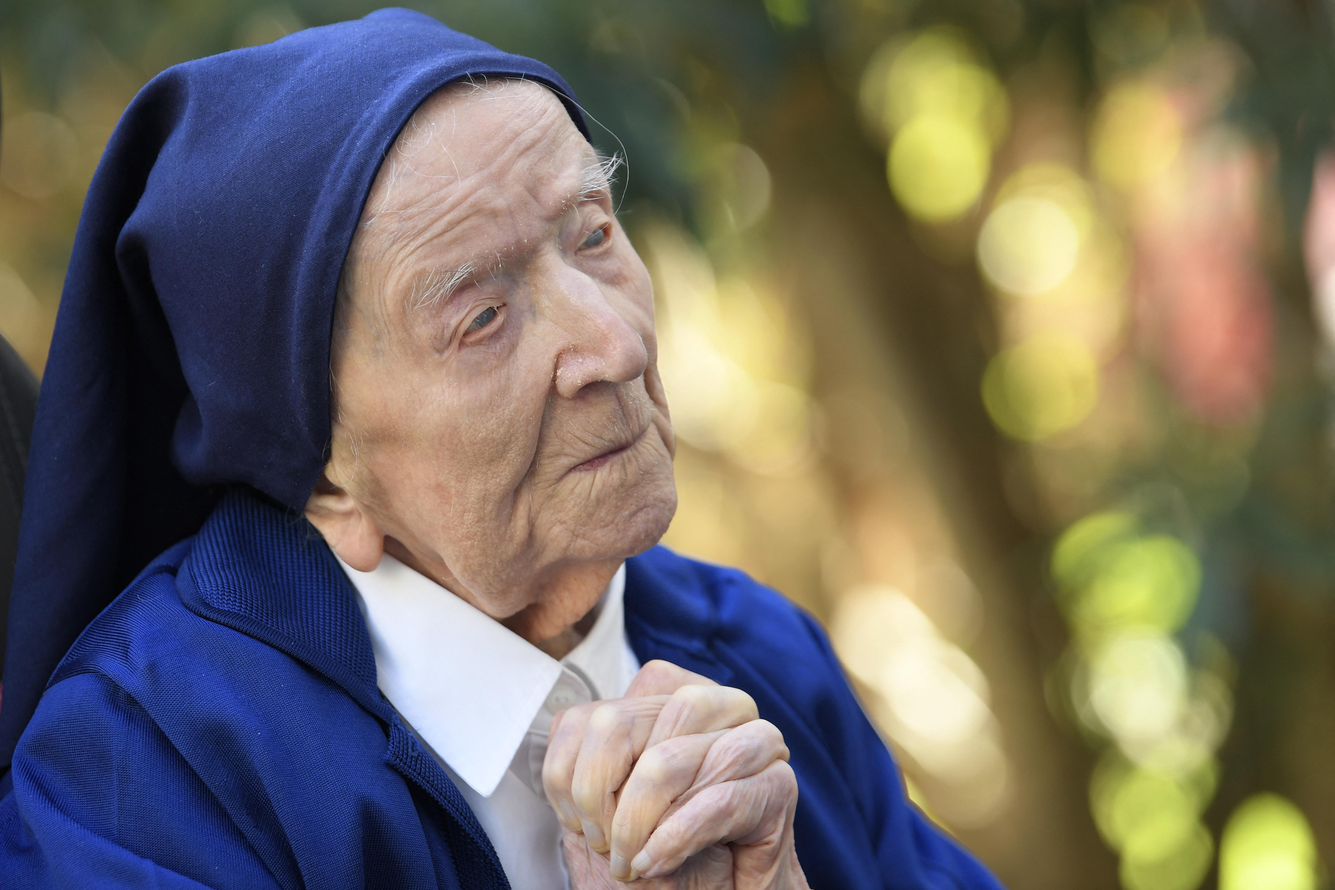Persons: (122, 0, 737, 636)
